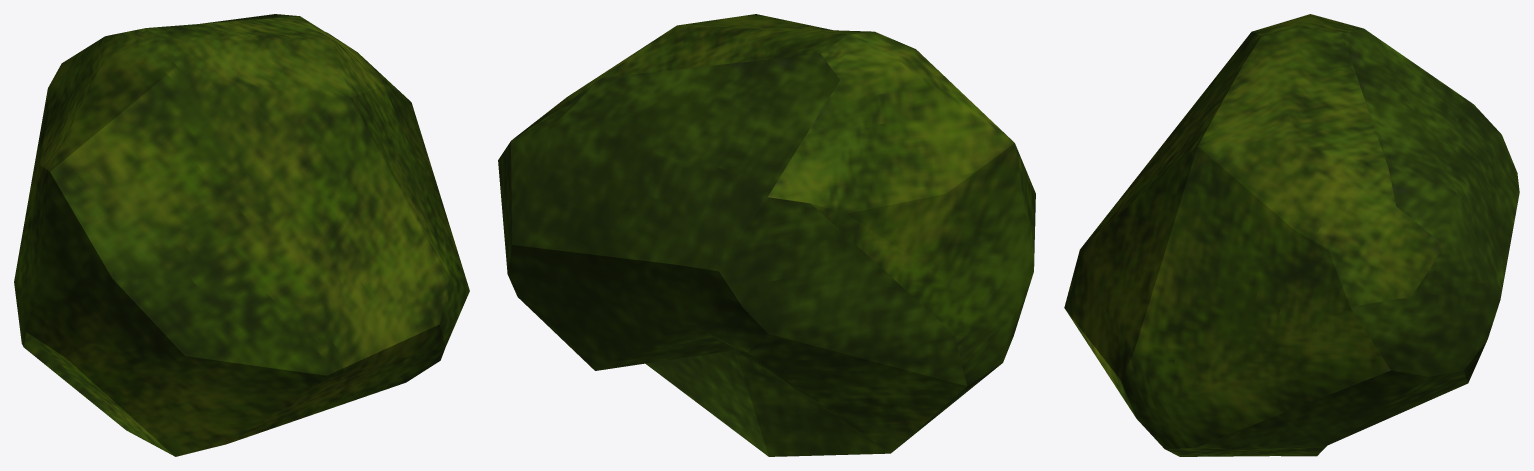
File: Leaf_Head_02.fbx
3 views of the same model, side by side, from view 1: azimuth 30°, elevation 25°; view 2: azimuth 150°, elevation 25°; view 3: azimuth 270°, elevation 25° (orthographic). The views are drawn at different scales.
Visible parts, largest first — view 1: pPlatonic2; view 2: pPlatonic2; view 3: pPlatonic2.
Boxes of the visible parts, x1=… form: pPlatonic2: x1=14, y1=14, x2=469, y2=456; pPlatonic2: x1=498, y1=14, x2=1035, y2=456; pPlatonic2: x1=1064, y1=14, x2=1519, y2=456.
Bounding box in the file's own units: 621 × 562 × 583.
